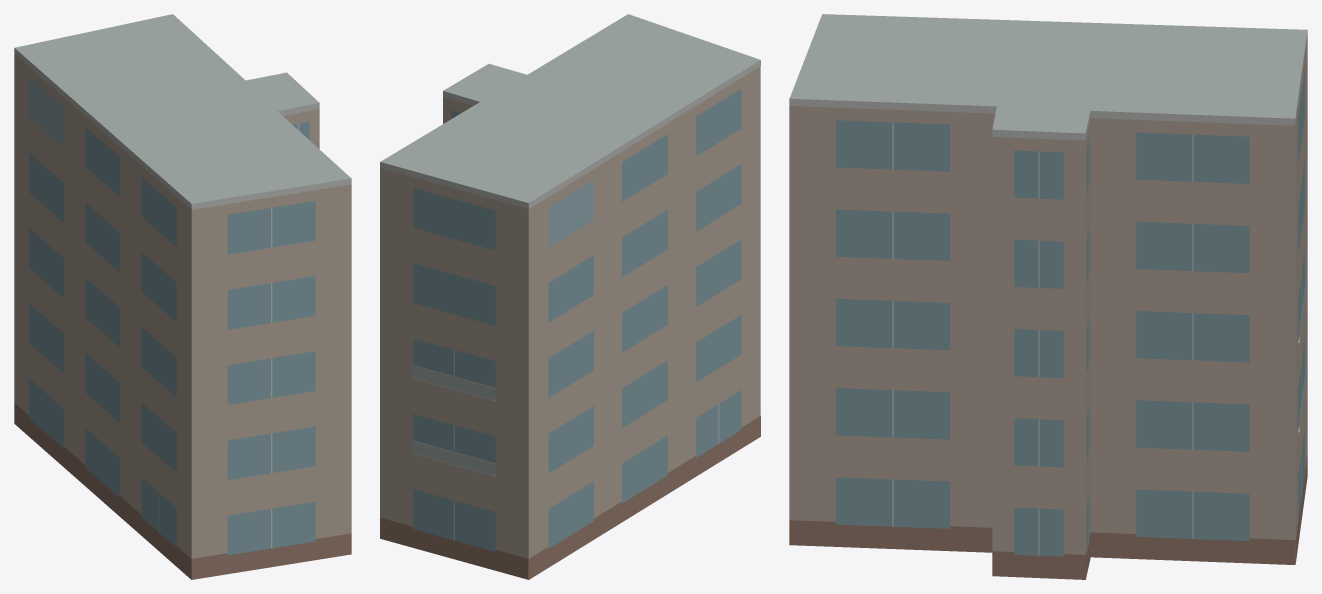
File: survey-upis-32643732.glb
3 renders of one model, left to right at view 1: azimuth 30°, elevation 25°; view 2: azimuth 150°, elevation 25°; view 3: azimuth 270°, elevation 25°, orthographic. The views are drawn at different scales.
Parts seen in each view (by area): view 1: survey-upis-32643732.tmp; view 2: survey-upis-32643732.tmp; view 3: survey-upis-32643732.tmp.
Part boxes in pixels (bbox=[...]): survey-upis-32643732.tmp: bbox=[14, 14, 351, 579]; survey-upis-32643732.tmp: bbox=[380, 14, 760, 579]; survey-upis-32643732.tmp: bbox=[789, 14, 1307, 579].
Bounding box in the file's own units: 8.76 × 15.25 × 16.05.
